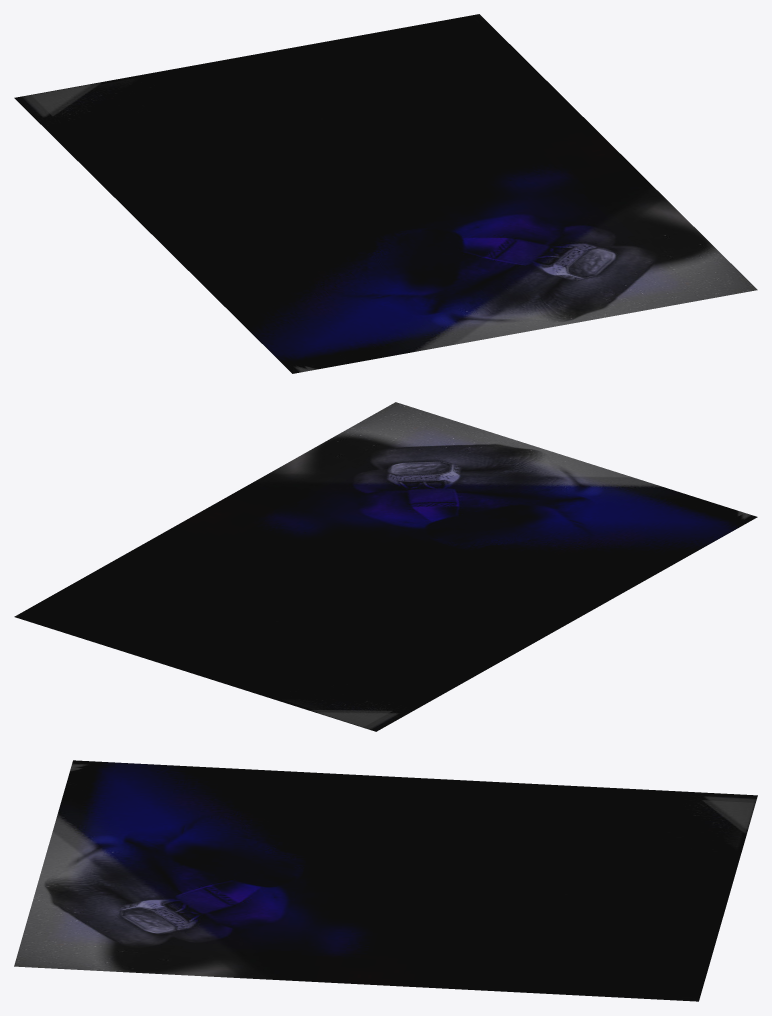
File: verbal_shoota.glb
3 renders of one model, top to bottom at view 1: azimuth 30°, elevation 25°; view 2: azimuth 150°, elevation 25°; view 3: azimuth 270°, elevation 25°, orthographic. The views are drawn at different scales.
Visible parts, largest first — view 1: verbal_shoota; view 2: verbal_shoota; view 3: verbal_shoota.
Part boxes in pixels (x1,y1,x2,y2): verbal_shoota: (14,14,757,373); verbal_shoota: (14,402,757,731); verbal_shoota: (14,760,757,1001).
Size of the model in its own units: 4.17 by 5.08e-07 by 5.44.
Materials: 1 (1 with a texture image).
